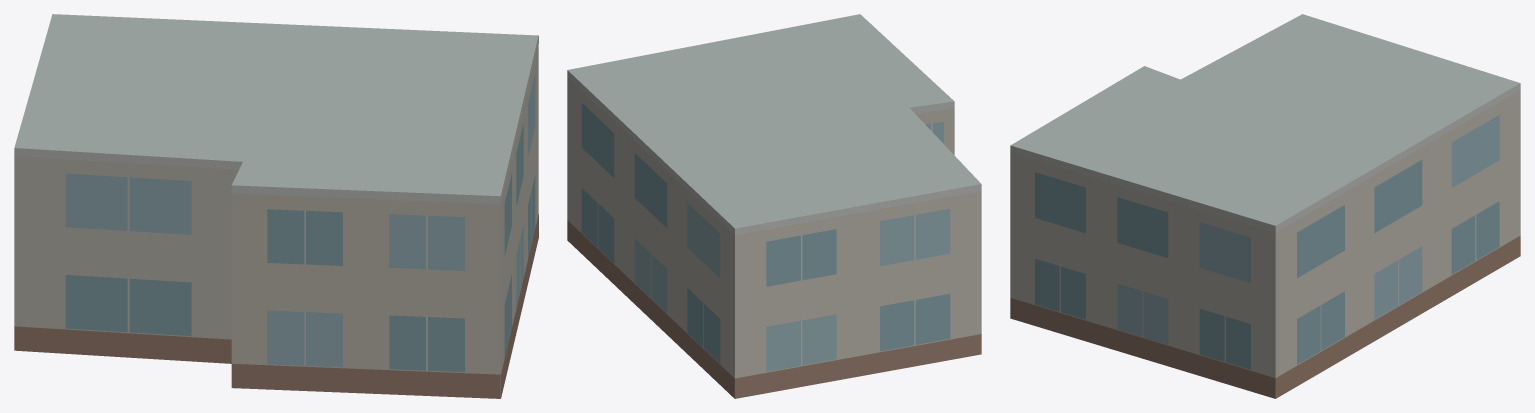
File: survey-upis-32866773.glb
3 renders of one model, left to right at view 1: azimuth 30°, elevation 25°; view 2: azimuth 150°, elevation 25°; view 3: azimuth 270°, elevation 25°, orthographic. The views are drawn at different scales.
Parts seen in each view (by area): view 1: survey-upis-32866773.tmp; view 2: survey-upis-32866773.tmp; view 3: survey-upis-32866773.tmp.
Boxes of the visible parts, x1,y1,x2,y2 form: survey-upis-32866773.tmp: (14,14,538,398); survey-upis-32866773.tmp: (567,14,981,398); survey-upis-32866773.tmp: (1010,14,1520,398).
Bounding box in the file's own units: 16.03 × 6.1 × 16.31.
